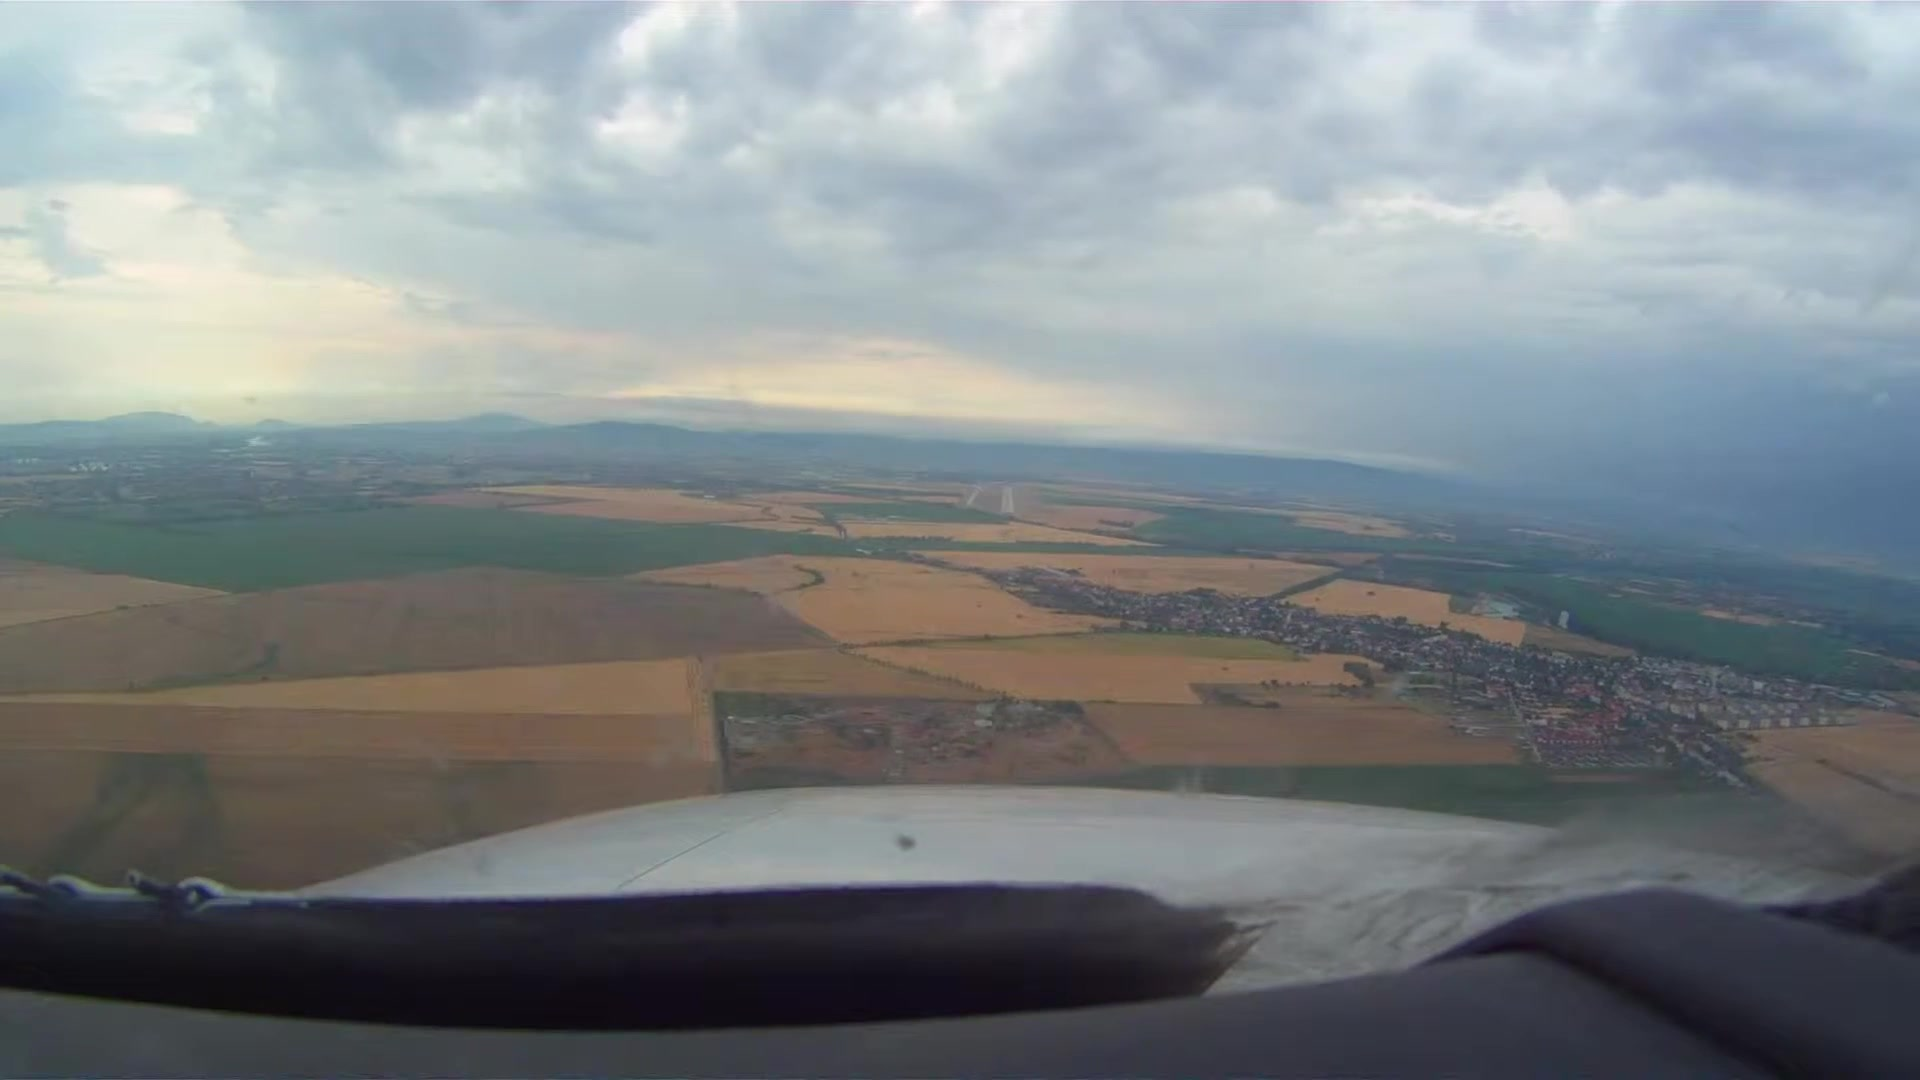runway: (997, 484, 1017, 516)
